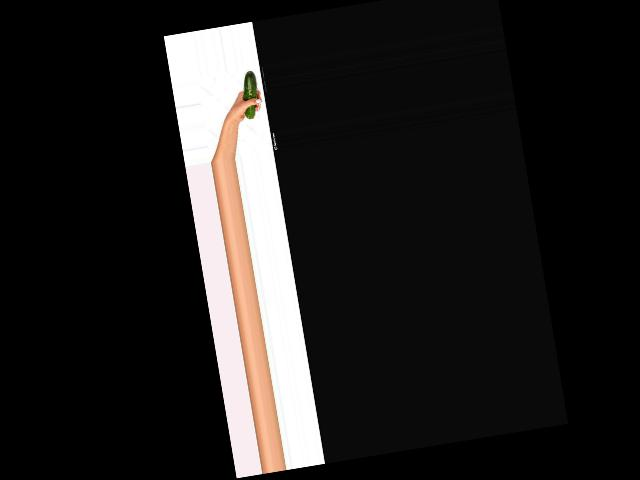cucumber: (238, 69, 262, 119)
